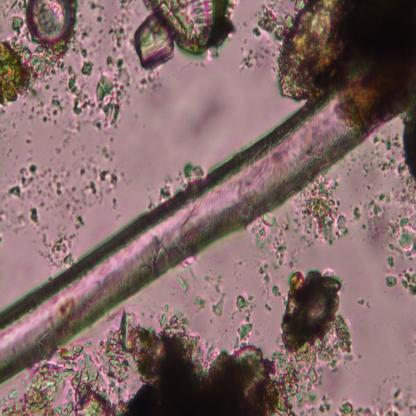Background material: (122, 309, 296, 415), (5, 345, 126, 414), (278, 1, 360, 97), (275, 267, 352, 367), (186, 79, 250, 156), (36, 162, 106, 228), (88, 42, 163, 102), (307, 179, 349, 243), (0, 36, 37, 103), (136, 15, 174, 68), (222, 36, 276, 73), (249, 220, 293, 264), (371, 132, 406, 180), (386, 214, 416, 265), (106, 0, 131, 56), (290, 350, 318, 398), (380, 377, 411, 414), (253, 10, 291, 39), (401, 109, 416, 180), (37, 96, 64, 133), (352, 198, 386, 226), (66, 78, 90, 115), (94, 99, 122, 129), (49, 233, 74, 266), (258, 260, 280, 296), (151, 174, 175, 206), (76, 19, 92, 57), (94, 74, 113, 104), (179, 160, 205, 181), (341, 401, 379, 415), (18, 163, 38, 188), (210, 292, 228, 317), (400, 269, 416, 297), (169, 274, 191, 294), (236, 291, 255, 314), (89, 2, 106, 27), (99, 168, 119, 186), (98, 141, 115, 162), (238, 320, 253, 343), (322, 389, 335, 414), (12, 14, 24, 35), (28, 206, 39, 228), (263, 211, 277, 226), (109, 193, 119, 213), (87, 178, 98, 196), (384, 273, 398, 287), (81, 60, 93, 76), (359, 299, 371, 312), (23, 135, 35, 147), (29, 102, 36, 121), (10, 185, 22, 196)
Diatom: (142, 1, 236, 57), (25, 1, 76, 43)
